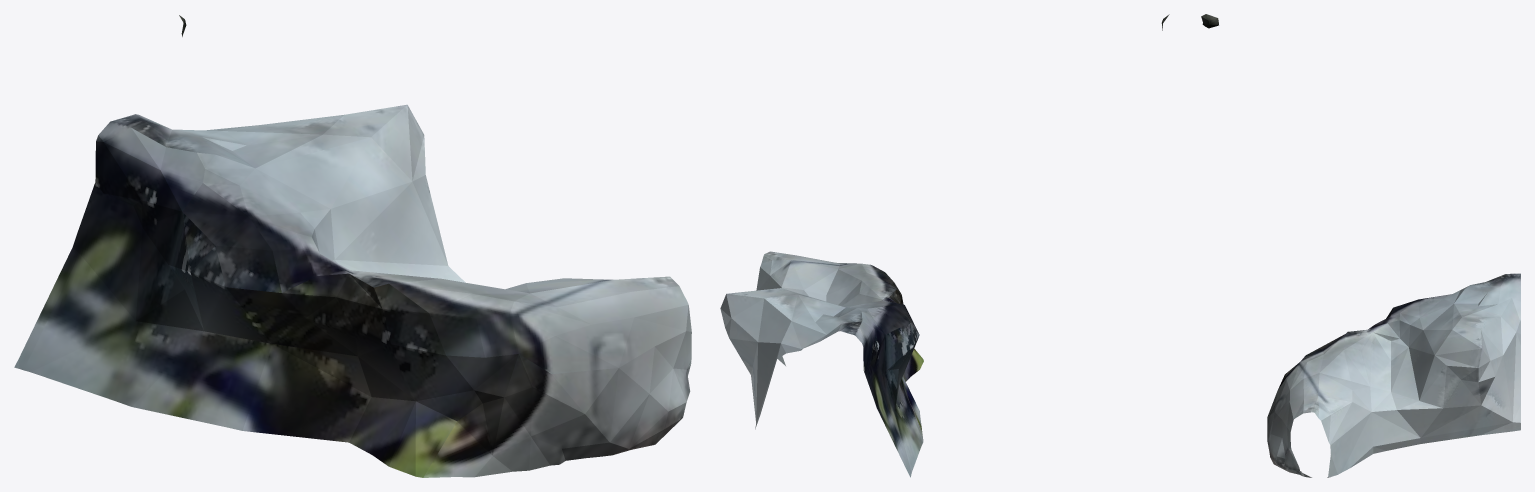
3 renders of one model, left to right at view 1: azimuth 30°, elevation 25°; view 2: azimuth 150°, elevation 25°; view 3: azimuth 270°, elevation 25°, orthographic. The views are drawn at different scales.
Bounding box in the file's own units: 0.8374 × 0.8216 × 0.7568.
Materials: 2 (2 with a texture image).
